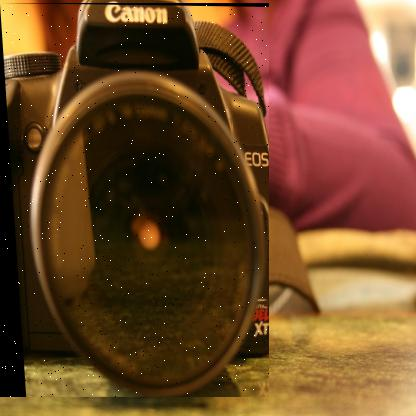Camera: (1, 4, 271, 399)
